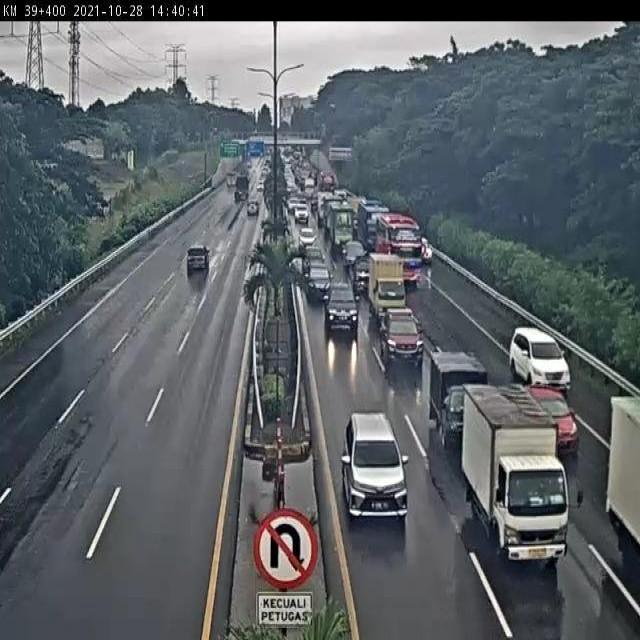bus-l-: (374, 213, 421, 275)
car: (341, 413, 409, 519), (510, 329, 570, 394), (523, 386, 576, 458), (380, 308, 423, 365), (323, 283, 360, 332), (307, 260, 335, 301), (342, 241, 368, 271), (186, 244, 210, 272), (355, 259, 375, 292), (301, 245, 325, 271)
truck-s-: (460, 383, 570, 560), (428, 351, 491, 448), (369, 252, 407, 316)
